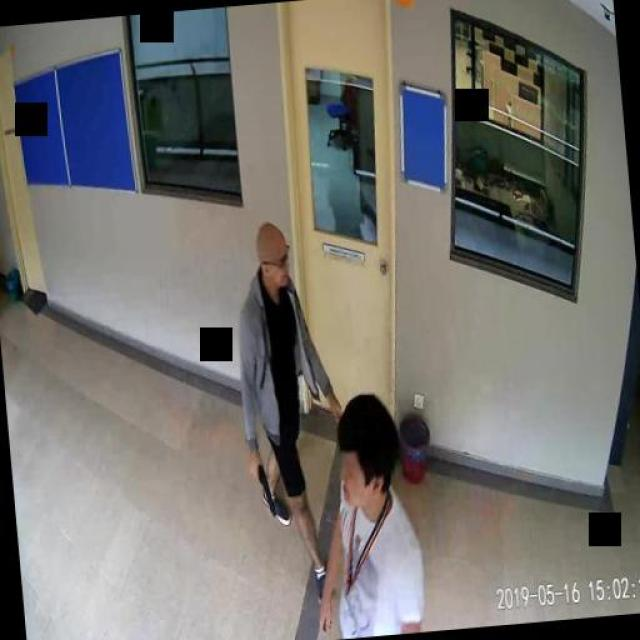gun: (249, 457, 275, 515)
